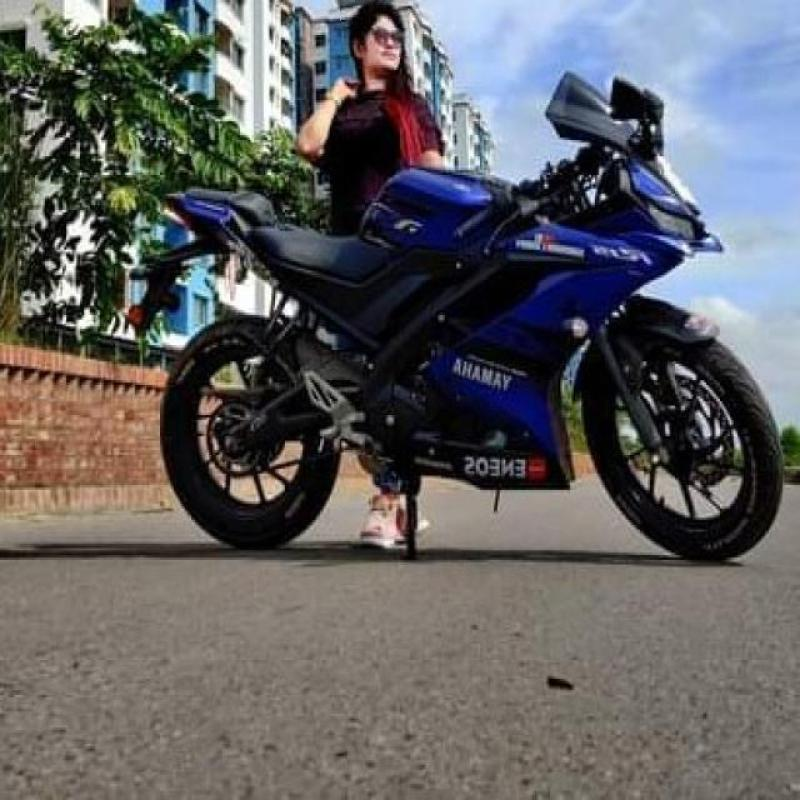nohelmet: (341, 1, 428, 82)
